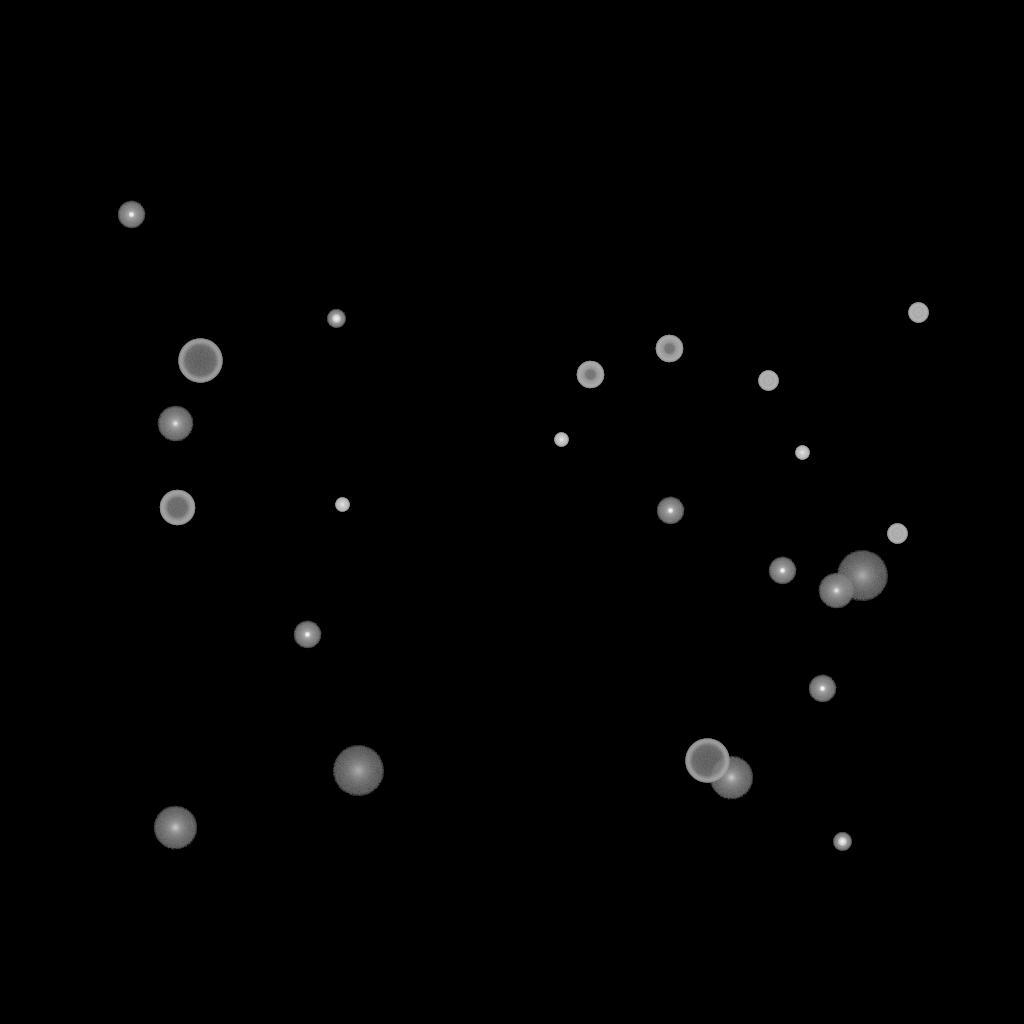depth:-10: (293, 621, 321, 649), (117, 201, 145, 229), (656, 497, 684, 525), (768, 557, 796, 585), (808, 675, 836, 703)
depth:-20: (833, 833, 851, 851), (327, 310, 345, 328)
depth:-30: (335, 498, 349, 512), (554, 433, 568, 447), (795, 446, 809, 460)
depth:-40: (758, 371, 778, 391), (908, 303, 928, 323), (887, 524, 907, 544)
depth:-50: (655, 335, 683, 363), (576, 361, 604, 389)
depth:-60: (159, 490, 195, 526)
depth:-70: (178, 339, 222, 383), (685, 739, 729, 783)
depth:0: (157, 406, 193, 442), (818, 573, 854, 609)
depth:10: (709, 756, 753, 800), (153, 806, 197, 850)
depth:20: (332, 746, 384, 796), (836, 551, 888, 601)
